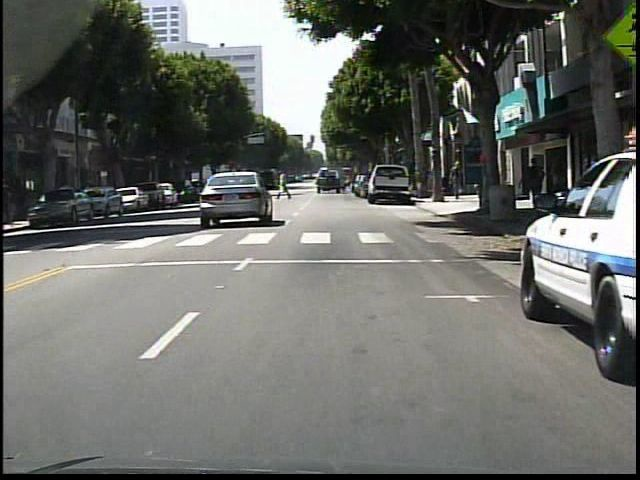person: (521, 156, 546, 218), (548, 152, 569, 219), (451, 158, 467, 200), (278, 171, 294, 200)
